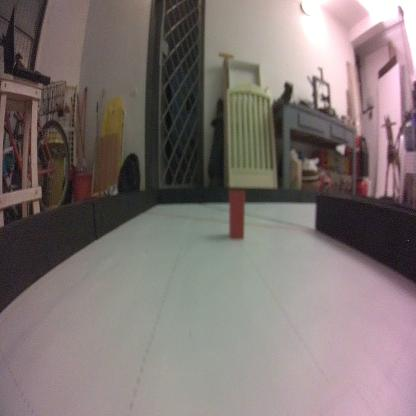red: (228, 187, 246, 242)
